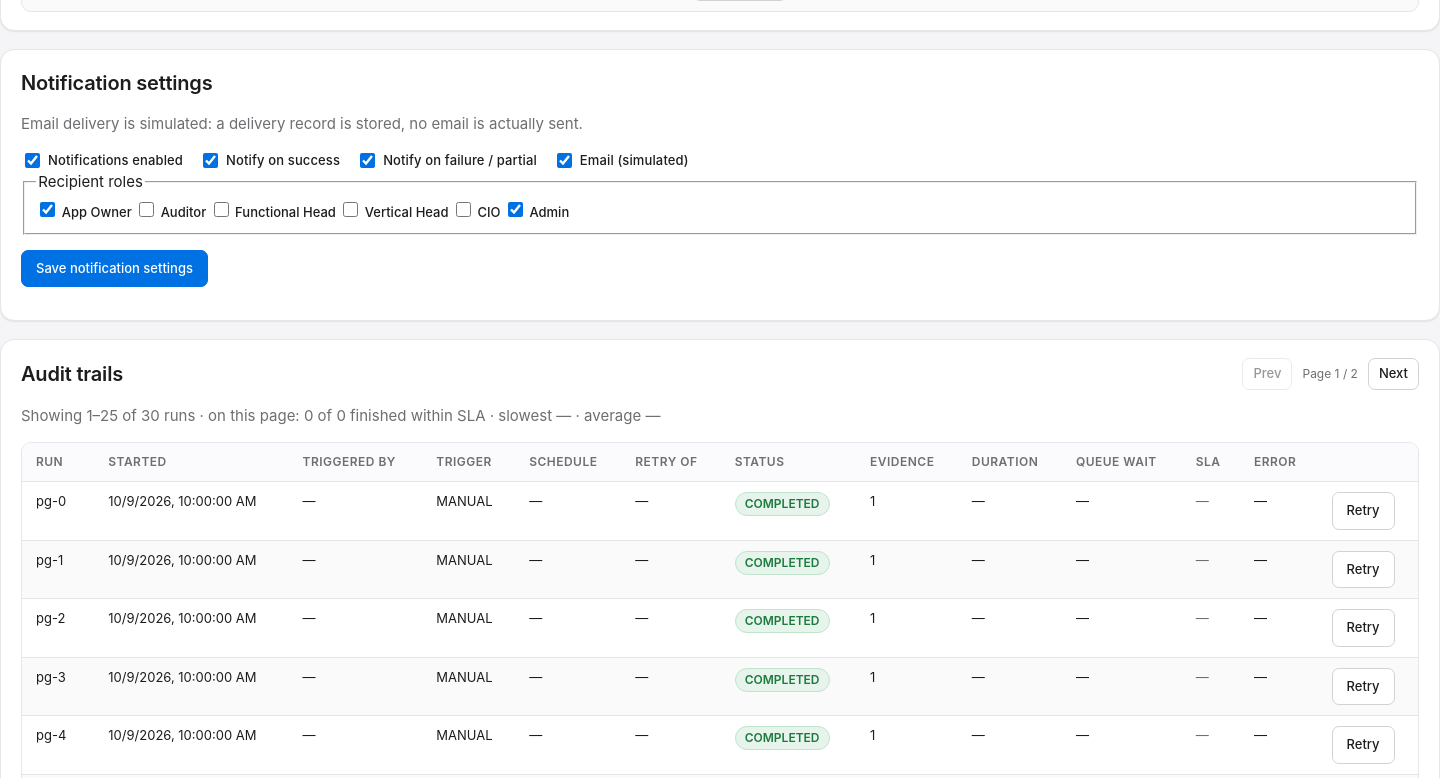
Test: Scheduler › paginates the audit trails: shows the backend total and loads the next page
(page scrolled)
Expected: the text named "Audit trail summary" shows "Showing 1–25 of 30 runs", [21,406,660,425]
Expected: the text "Page 1 / 2" is shown, [1302,365,1358,383]
Click the button "Next" at point(1393, 374), box [1368,358,1419,390]
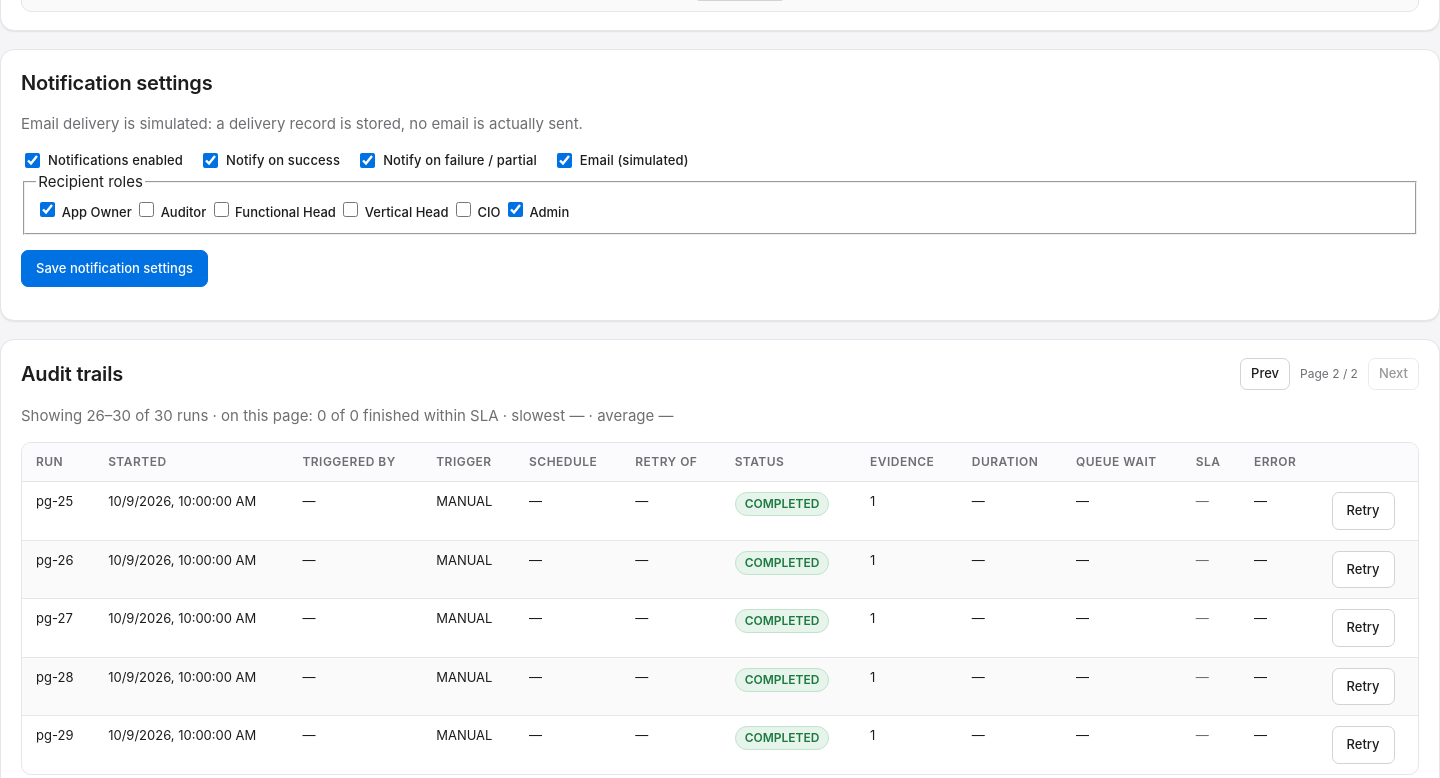
Now the text "Page 2 / 2" is shown, box [1300,365,1358,383]
Now the text named "Audit trail summary" shows "Showing 26–30 of 30 runs", box [21,406,674,425]
Now the button "Next" is disabled, box [1368,358,1419,390]
